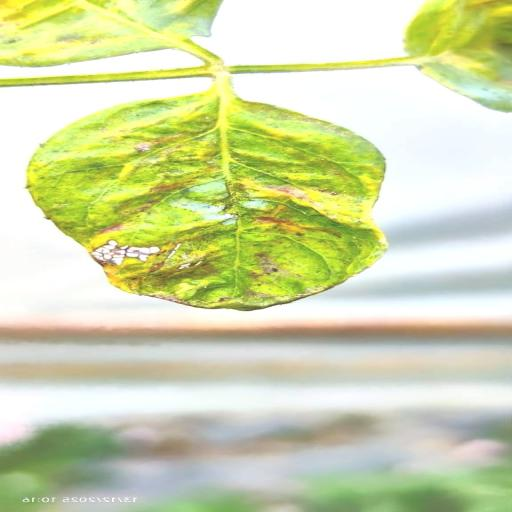thrip: (29, 79, 385, 310)
